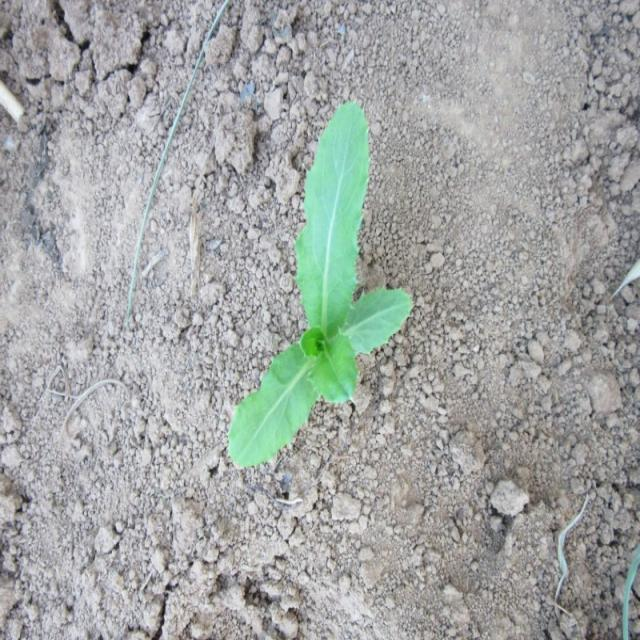cs: (226, 98, 417, 477)
